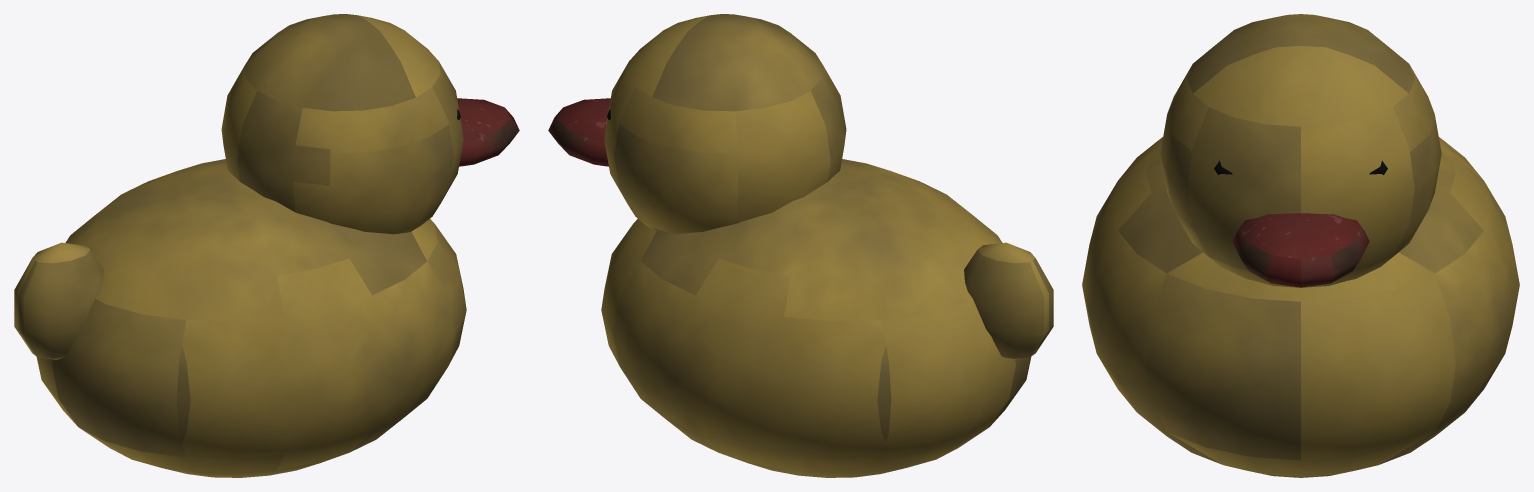
The model's file is T06_rubber_duck.glb.
3 views of the same model, side by side, from view 1: azimuth 30°, elevation 25°; view 2: azimuth 150°, elevation 25°; view 3: azimuth 270°, elevation 25° (orthographic). The views are drawn at different scales.
Visible parts, largest first — view 1: T06_rubber_duck; view 2: T06_rubber_duck; view 3: T06_rubber_duck.
Part boxes in pixels (bbox=[...]): T06_rubber_duck: bbox=[14, 14, 519, 477]; T06_rubber_duck: bbox=[548, 14, 1053, 477]; T06_rubber_duck: bbox=[1082, 14, 1519, 477].
Size of the model in its own units: 0.2 by 0.1573 by 0.1326.
3 materials, 3 textured.
